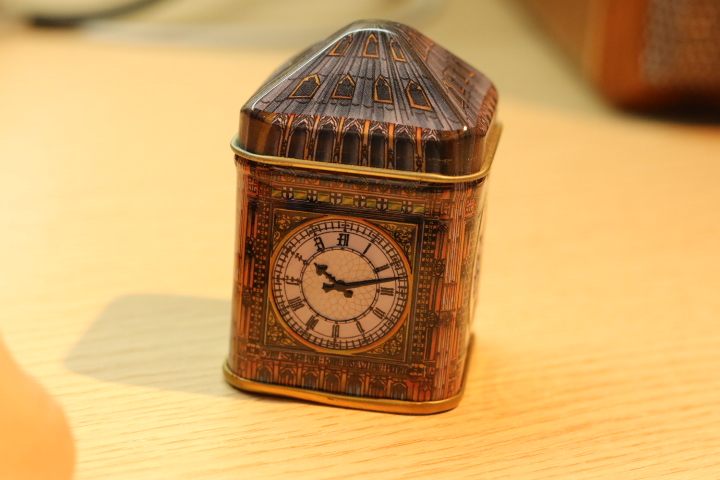Big Ben: (219, 15, 519, 428)
